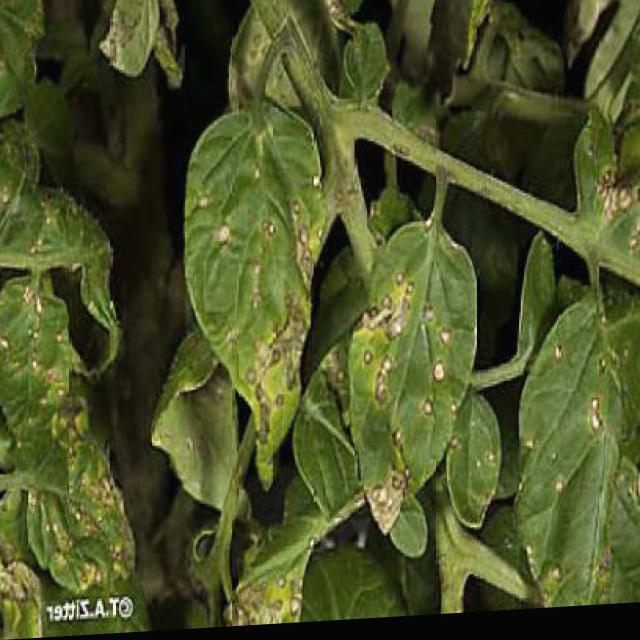Tomato Septoria spot leaf: (171, 101, 320, 511), (337, 224, 488, 543), (508, 268, 639, 616), (214, 504, 338, 628), (1, 264, 74, 456), (86, 0, 176, 97)
